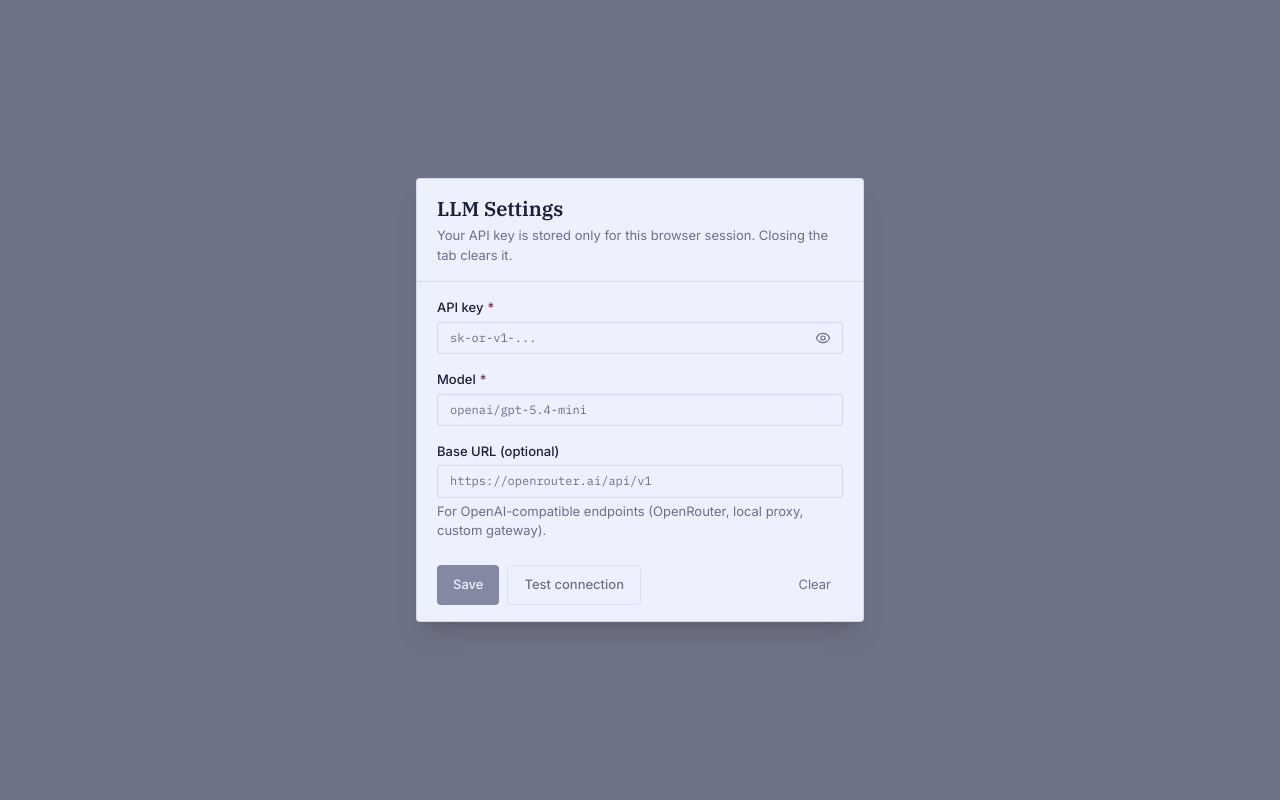
Scenario: SettingsModal › Test connection sends X-LLM-Credentials header and reports OK on 200
The width and height of the screenshot is (1280, 800).
Step 1. Type "sk-test" into the password field labelled "API key*" → [640, 338], box [437,322,843,354]
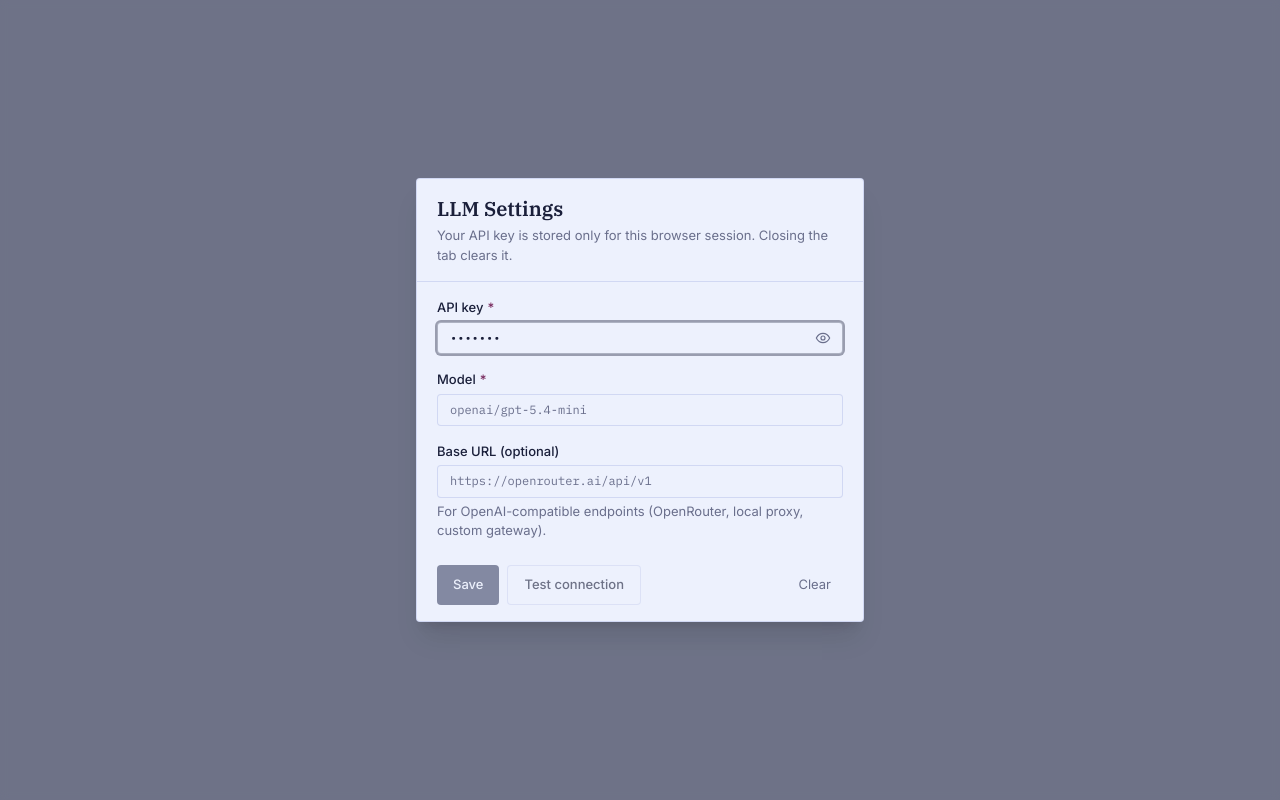
Step 2. Type "x/y" into the field labelled "Model*" → [640, 410], box [437,394,843,426]
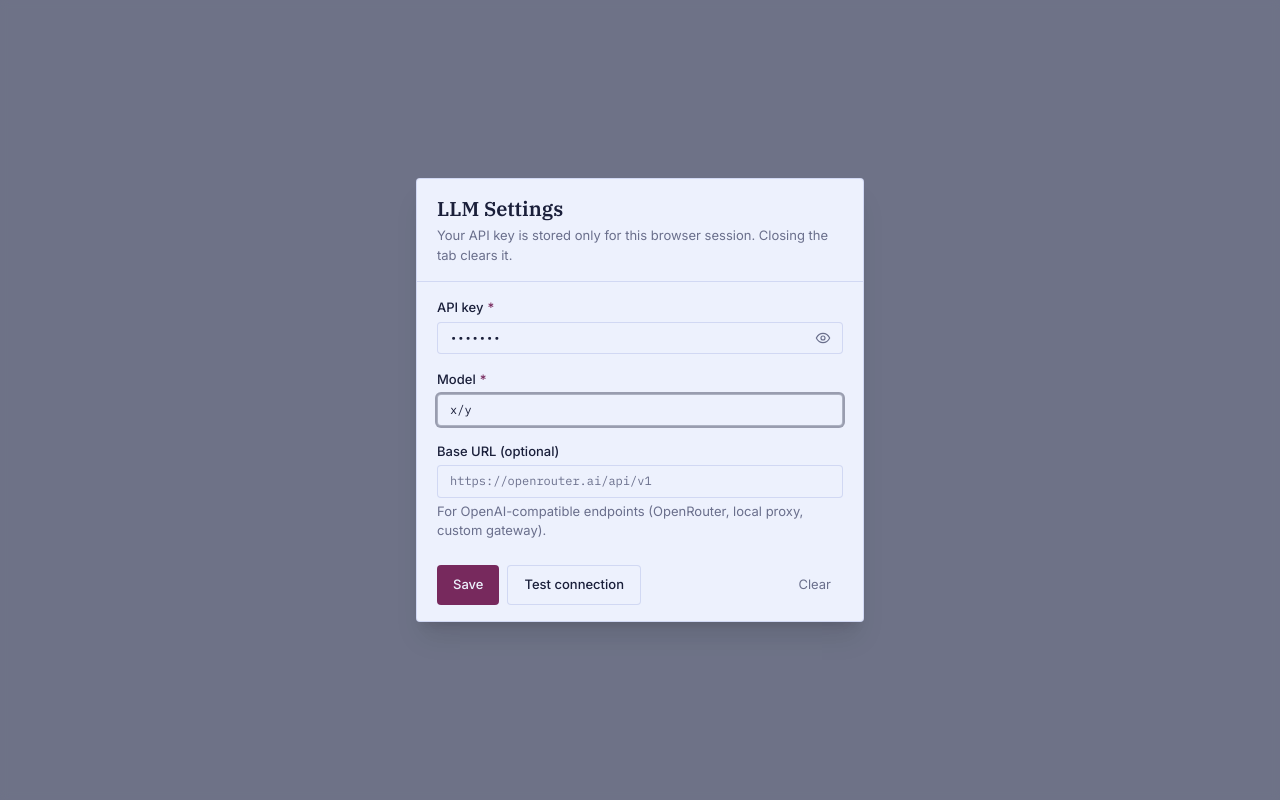
Step 3. Click the button "Test connection" → [574, 585], box [508,565,641,605]
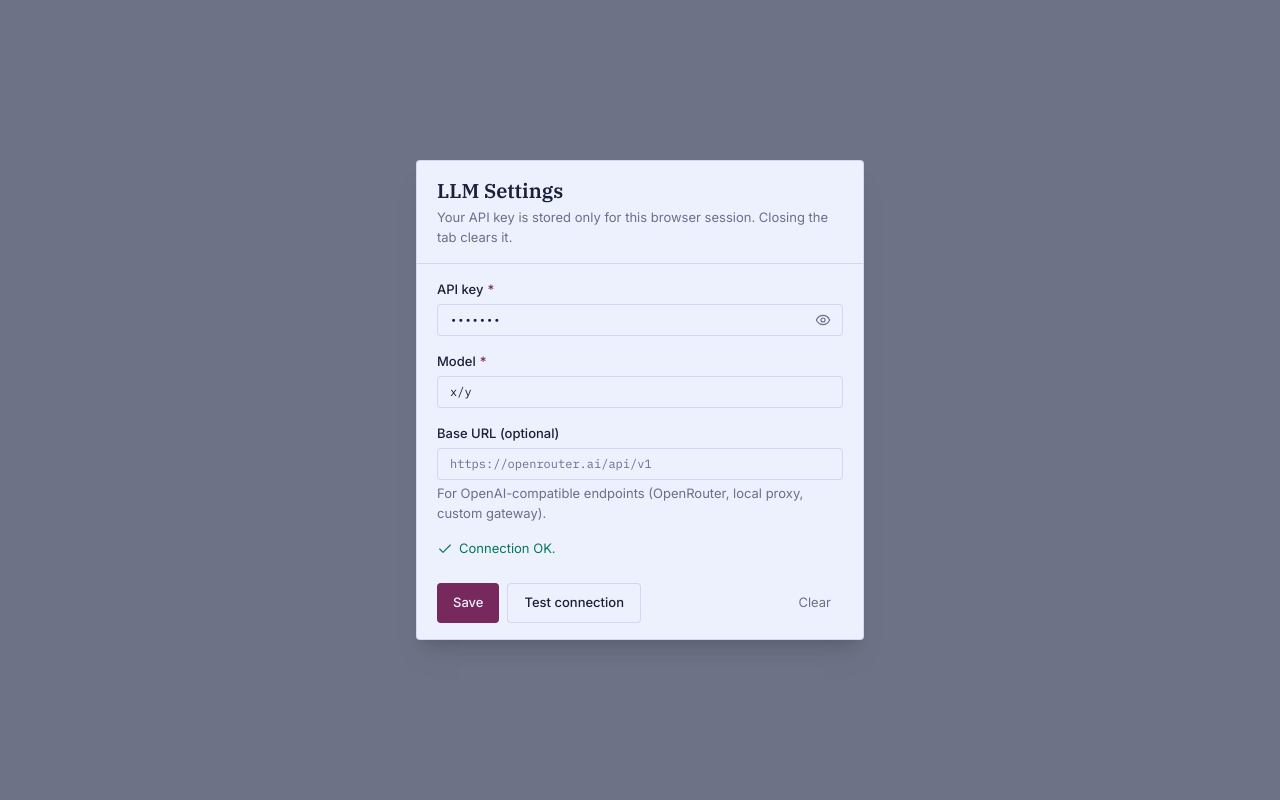
Expected: the text "Connection OK." is shown, [437,540,556,557]
